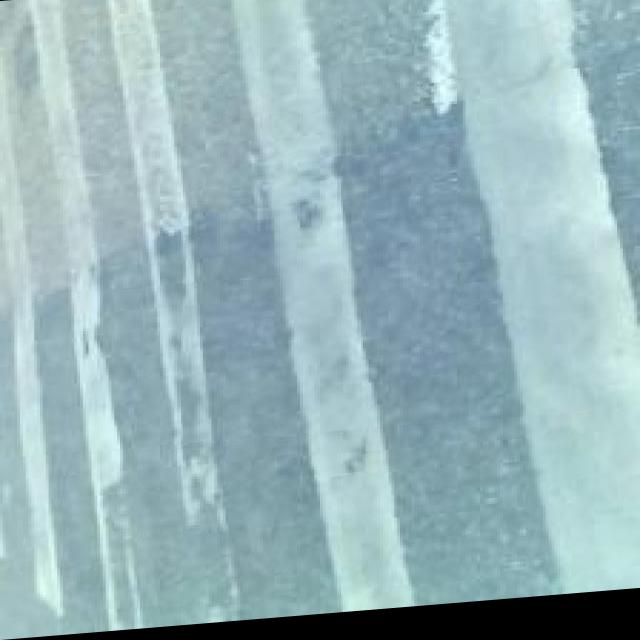zebra: (19, 0, 632, 616)
